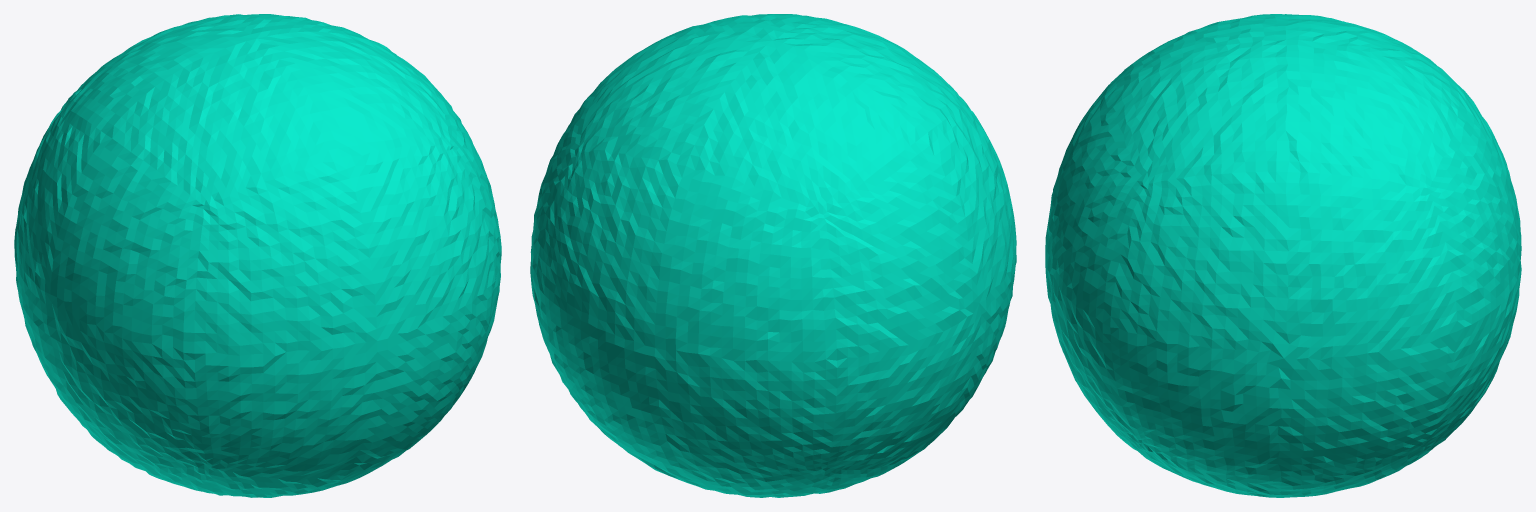
File: Sea35.fbx
3 views of the same model, side by side, from view 1: azimuth 30°, elevation 25°; view 2: azimuth 150°, elevation 25°; view 3: azimuth 270°, elevation 25° (orthographic).
Visible parts, largest first — view 1: pCube1; view 2: pCube1; view 3: pCube1.
Part boxes in pixels (x1=…): pCube1: x1=14, y1=14, x2=501, y2=497; pCube1: x1=530, y1=14, x2=1016, y2=497; pCube1: x1=1045, y1=14, x2=1521, y2=497.
Size of the model in its own units: 40.13 by 40.11 by 40.08.
